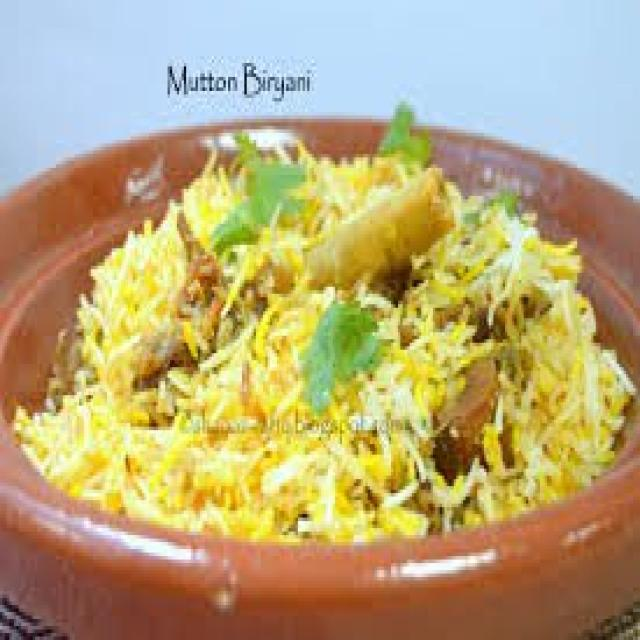mutton biryani: (98, 148, 601, 503)
